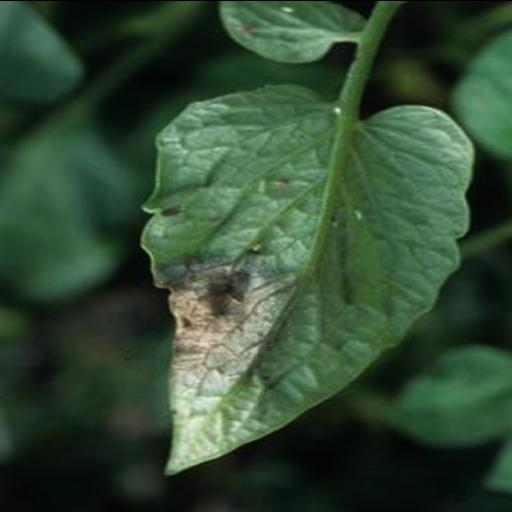Late Blight: (134, 78, 486, 476)
